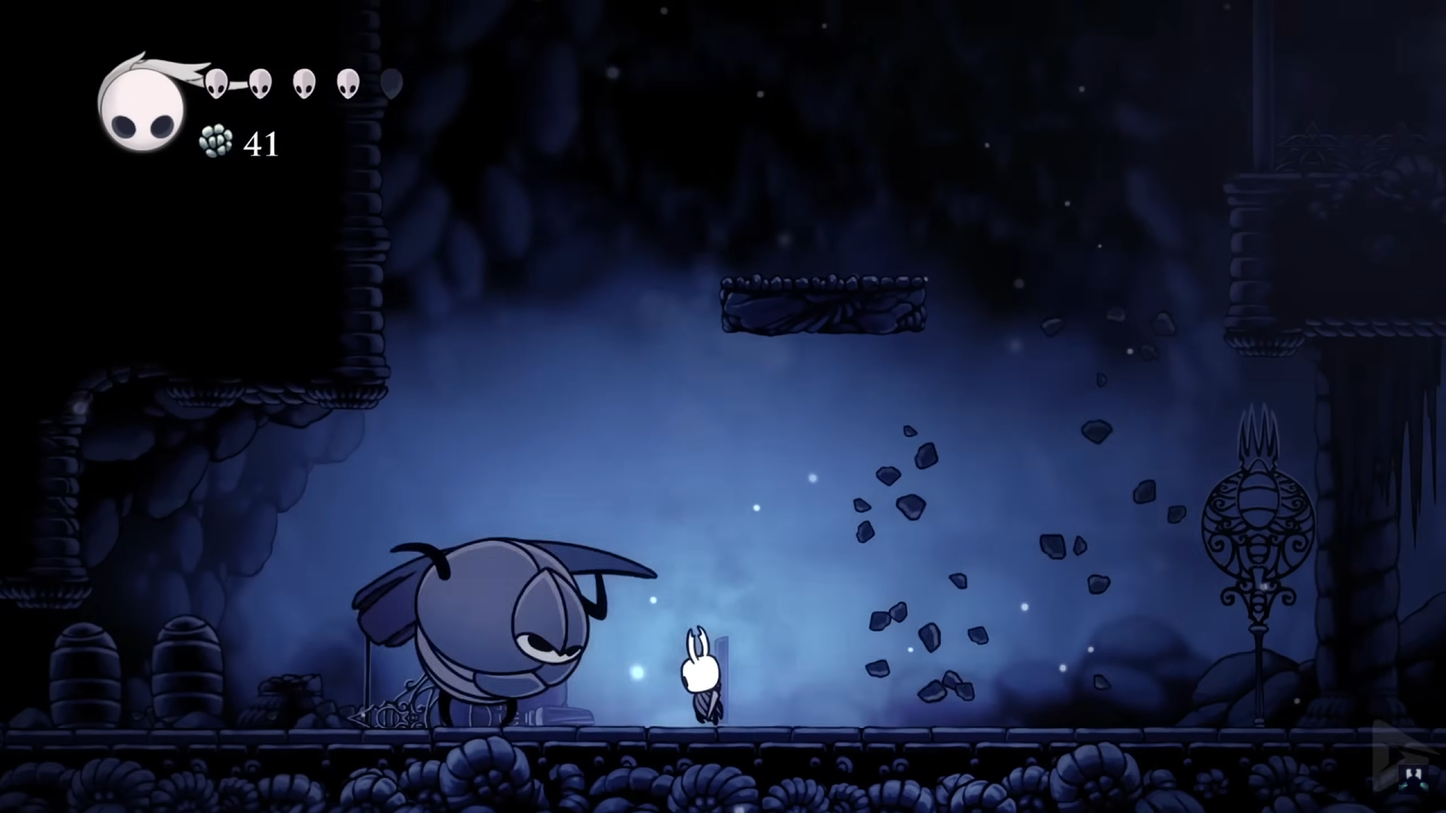HK: (676, 626, 730, 727)
